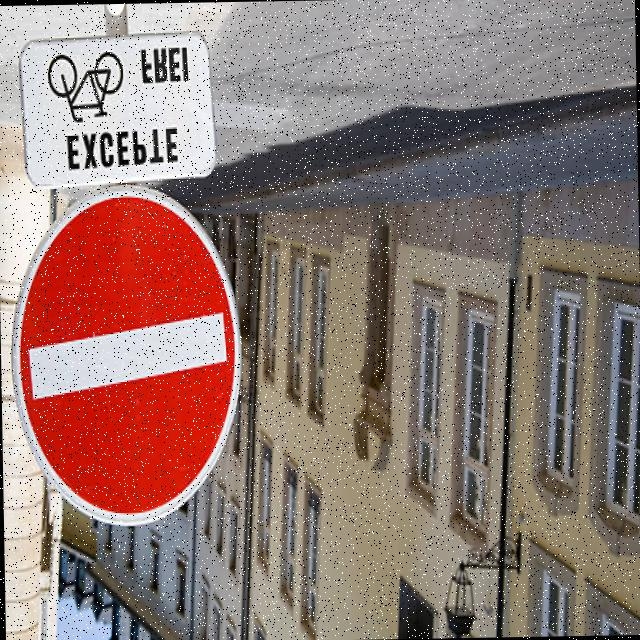do_not_enter: (5, 180, 248, 539)
